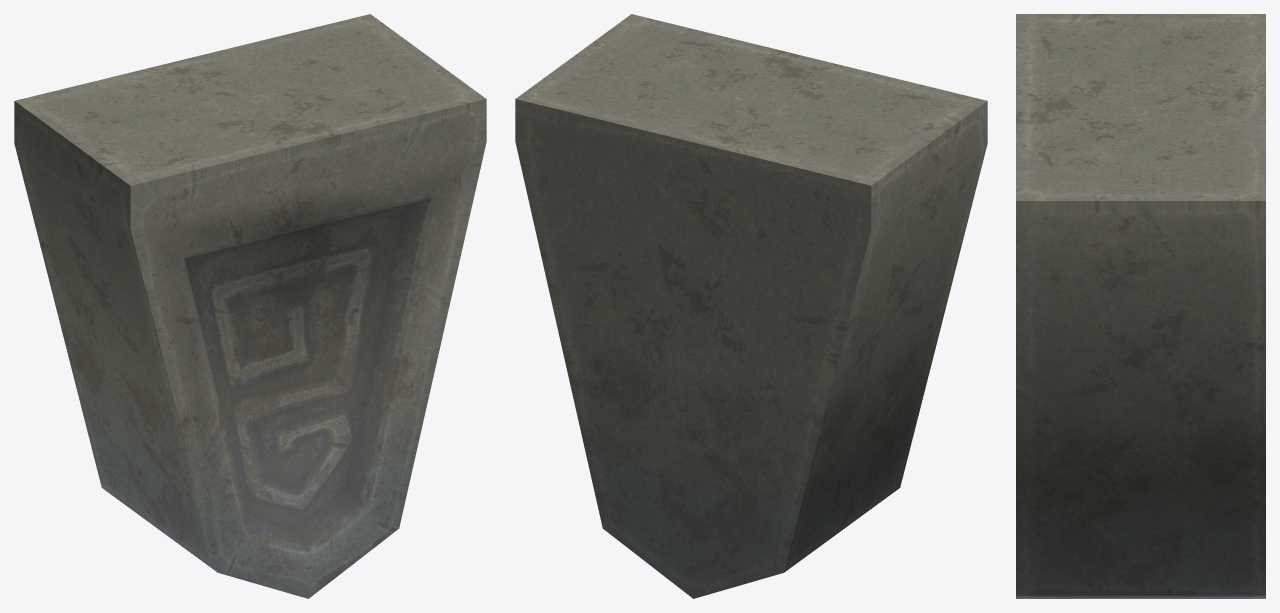
The model's file is AD_ArchDeco_A_01.fbx.
3 renders of one model, left to right at view 1: azimuth 30°, elevation 25°; view 2: azimuth 150°, elevation 25°; view 3: azimuth 270°, elevation 25°, orthographic. The views are drawn at different scales.
Visible parts, largest first — view 1: AD_ArchDeco_A_01; view 2: AD_ArchDeco_A_01; view 3: AD_ArchDeco_A_01.
Boxes of the visible parts, x1=… form: AD_ArchDeco_A_01: x1=14, y1=14, x2=486, y2=598; AD_ArchDeco_A_01: x1=515, y1=14, x2=987, y2=598; AD_ArchDeco_A_01: x1=1016, y1=14, x2=1265, y2=598.
Bounding box in the file's own units: 134 × 164 × 75.7.
1 material, 1 textured.
